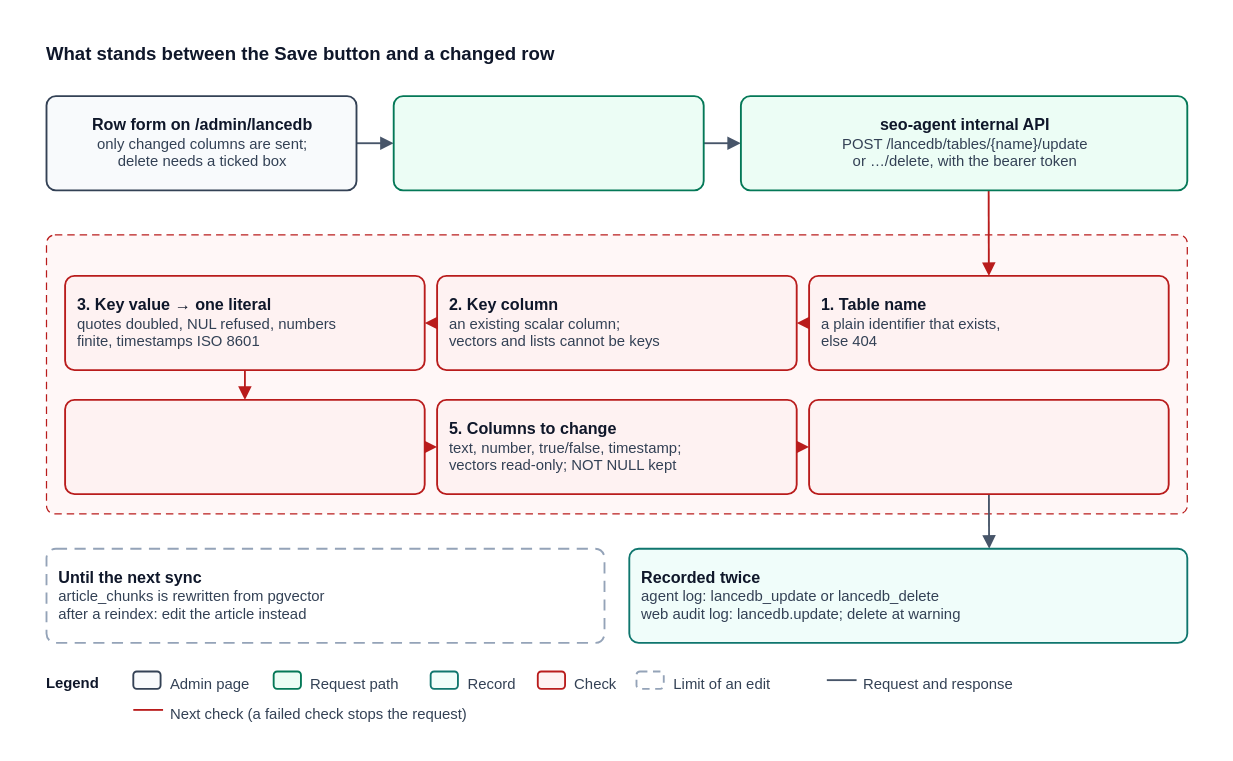
The diagram is 1233 pixels wide and 761 high, and some of its shapes have lost their labels. Each missing label, with the box of its shape:
4. Exactly one row count_rows(where) = 0: 404; more than one: 409: (64, 398, 425, 495)
6. Write table.update(where, values) or delete(where): one new table version: (808, 398, 1169, 495)
Checks in app/lance_admin.py, in order: (45, 234, 1187, 514)
Server action (web app) saveRow or deleteRow, actor = the signed-in admin: (392, 95, 704, 191)
